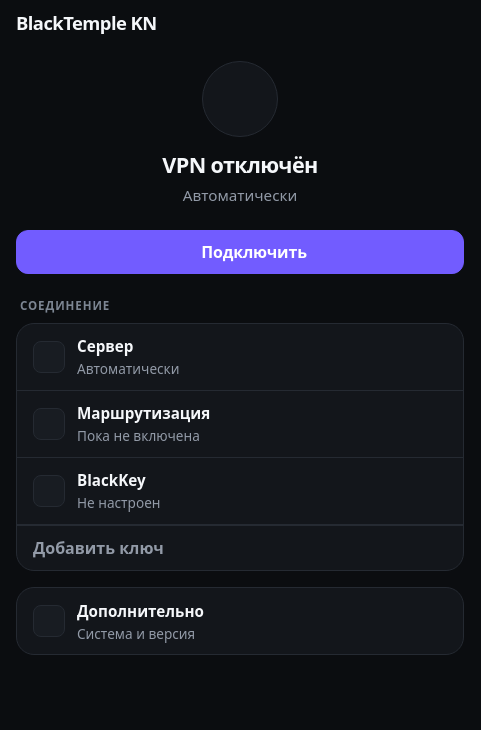
Test: main connection hero › keeps the UI usable on HTTP 501 connect
Click the button "Подключить".
click(240, 252)  # box 16,230 -> 464,274
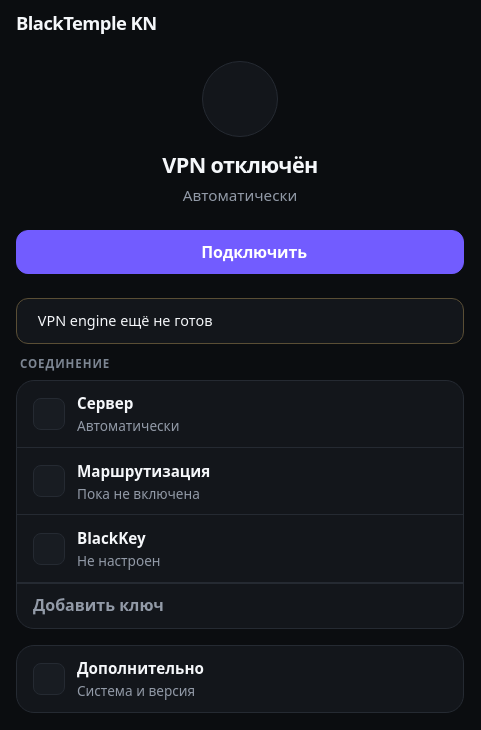
Check: the text "VPN отключён" is shown, box 162,149 -> 318,180
Check: the text "VPN engine ещё не готов" is shown, box 38,310 -> 212,331
